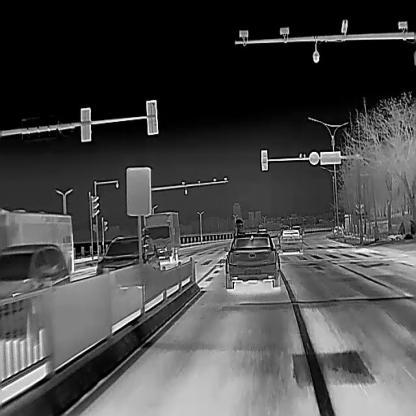car: (0, 242, 70, 336), (0, 208, 73, 274), (225, 233, 280, 289), (95, 235, 160, 276), (142, 212, 180, 263), (276, 229, 302, 253), (292, 224, 303, 236)
